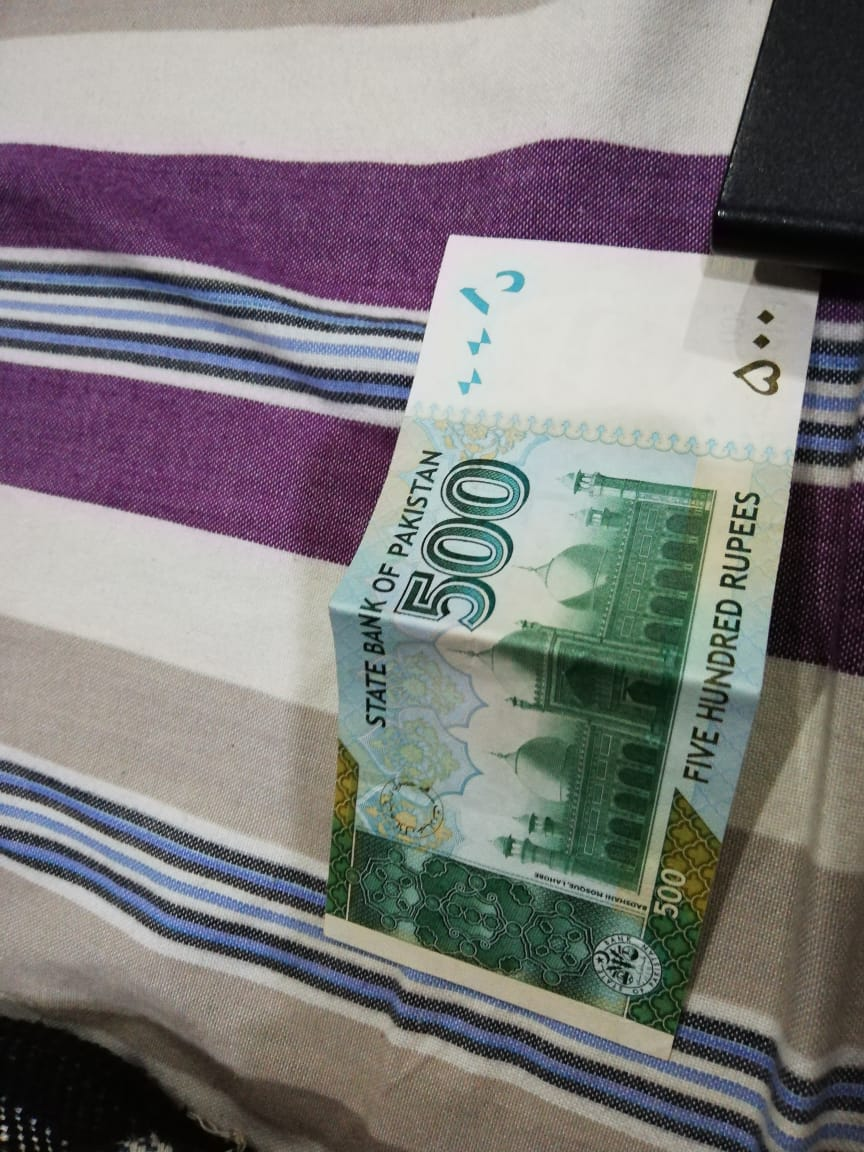500 rupee: (221, 172, 814, 1069)
